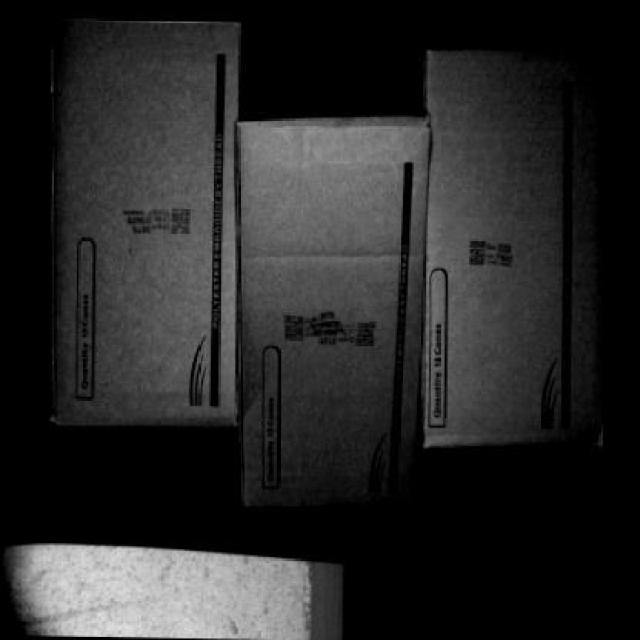cardboxes: (49, 12, 243, 423), (233, 117, 424, 509), (422, 48, 608, 448)
